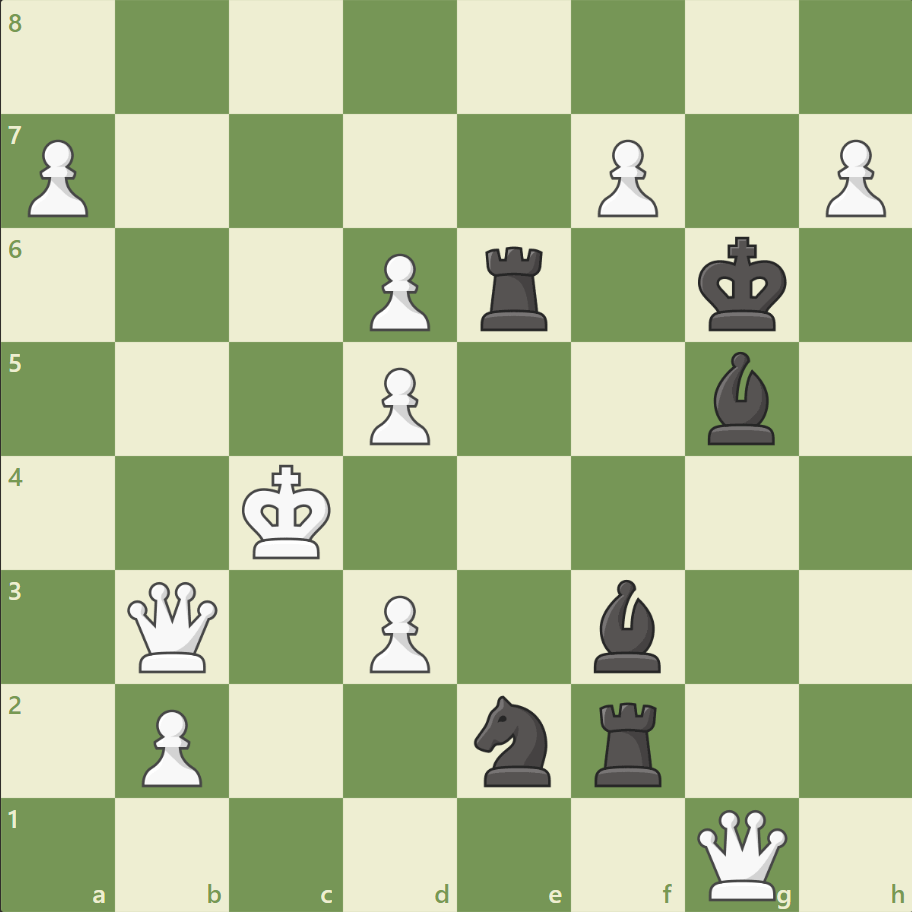K: (238, 458, 338, 566)
P: (20, 132, 95, 223), (133, 700, 208, 791), (588, 132, 662, 223), (815, 132, 889, 223), (361, 246, 435, 337), (361, 359, 435, 450), (361, 586, 435, 677)
Q: (124, 576, 223, 676), (691, 804, 790, 903)
b: (698, 347, 782, 449), (585, 574, 669, 676)
k: (692, 231, 792, 339)
n: (465, 688, 562, 791)
r: (473, 239, 556, 336), (587, 693, 670, 790)
